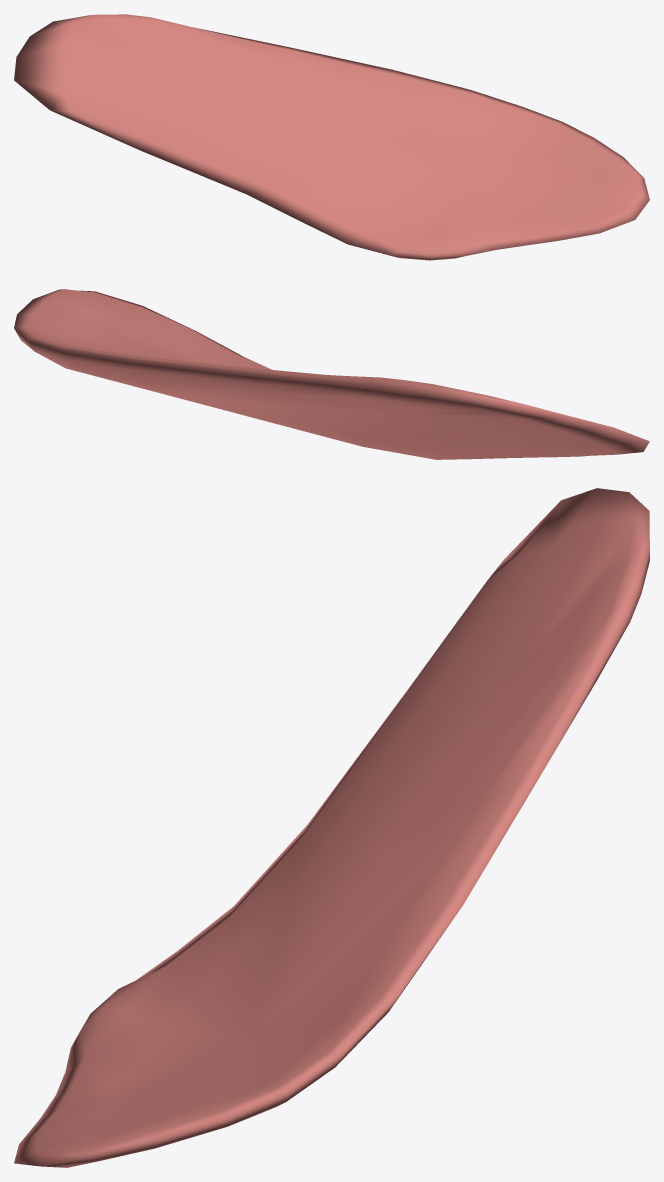
The picture shows the model from 3 angles, top to bottom: view 1: azimuth 30°, elevation 25°; view 2: azimuth 150°, elevation 25°; view 3: azimuth 270°, elevation 25°; orthographic projection. The views are drawn at different scales.
Parts seen in each view (by area): view 1: ZA_9652f530e6dd2569; view 2: ZA_9652f530e6dd2569; view 3: ZA_9652f530e6dd2569.
Part boxes in pixels (x1,y1,x2,y2): ZA_9652f530e6dd2569: (14,14,649,260); ZA_9652f530e6dd2569: (14,289,649,459); ZA_9652f530e6dd2569: (14,488,649,1167).
Size of the model in its own units: 0.0201 by 0.00694 by 0.0124.
